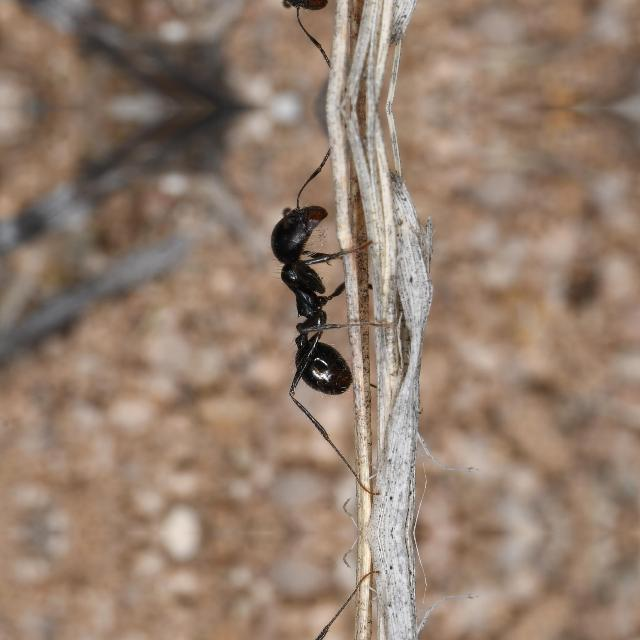Messor: (237, 183, 371, 403)
